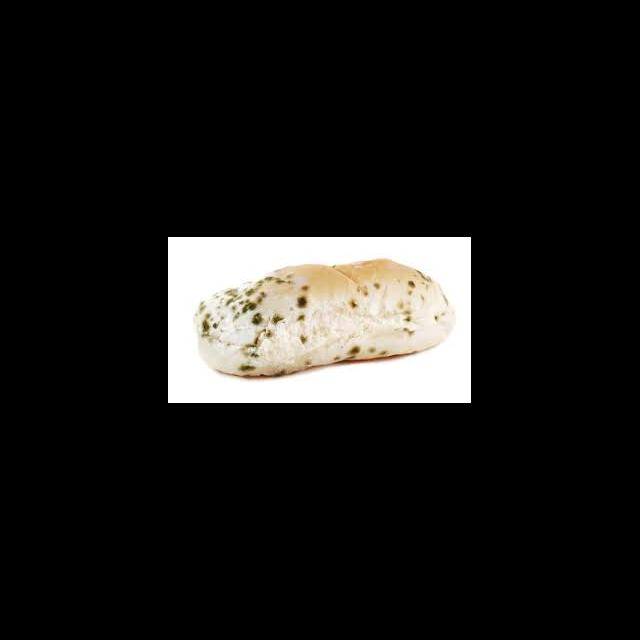food_waste: (184, 255, 462, 381)
